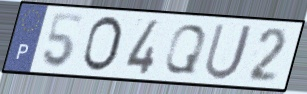2: (247, 26, 289, 85)
4: (125, 17, 159, 76)
5: (43, 9, 87, 71)
O: (79, 14, 125, 74)
Q: (161, 22, 209, 76)
U: (201, 21, 256, 82)
